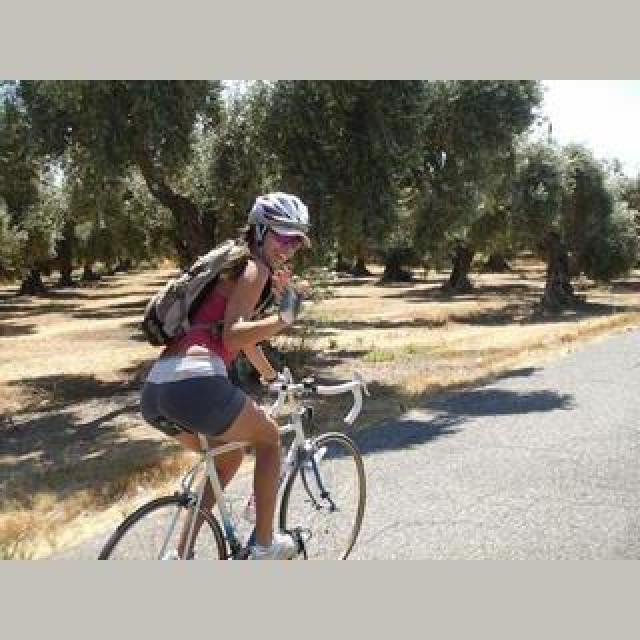MC-Bike: (142, 194, 316, 552)
Person: (103, 373, 377, 559)
